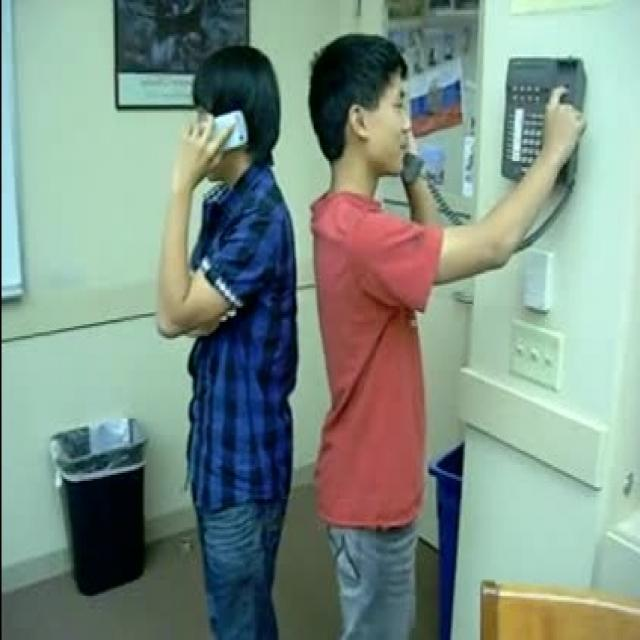phone: (168, 99, 248, 195), (377, 93, 435, 193)
